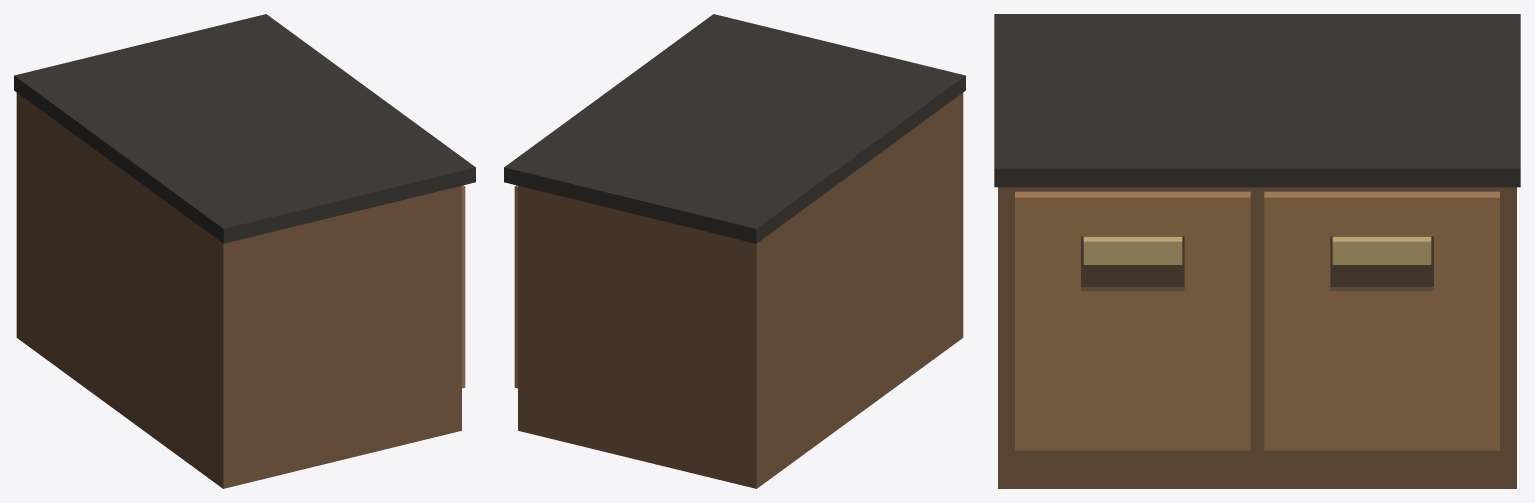
The model's file is SM_Cupboard_03.glb.
3 views of the same model, side by side, from view 1: azimuth 30°, elevation 25°; view 2: azimuth 150°, elevation 25°; view 3: azimuth 270°, elevation 25° (orthographic). The views are drawn at different scales.
Visible parts, largest first — view 1: SM_Cupboard_03; view 2: SM_Cupboard_03; view 3: SM_Cupboard_03.
Part boxes in pixels (x1,y1,x2,y2): SM_Cupboard_03: [14, 14, 475, 488]; SM_Cupboard_03: [504, 14, 965, 488]; SM_Cupboard_03: [994, 14, 1520, 488].
Bounding box in the file's own units: 0.561 × 0.5554 × 0.8072.
Materials: 1 (1 with a texture image).
